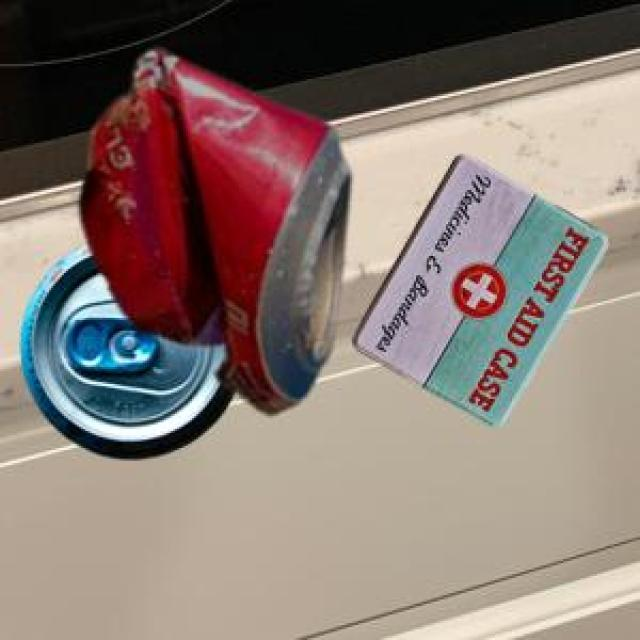Can: (78, 48, 347, 411), (351, 153, 605, 423), (18, 240, 231, 455)
